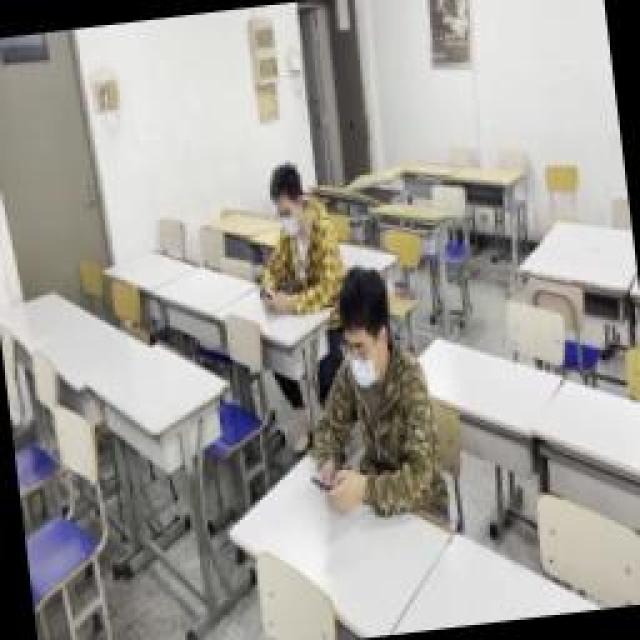phone: (295, 297, 445, 525), (245, 160, 340, 315)
